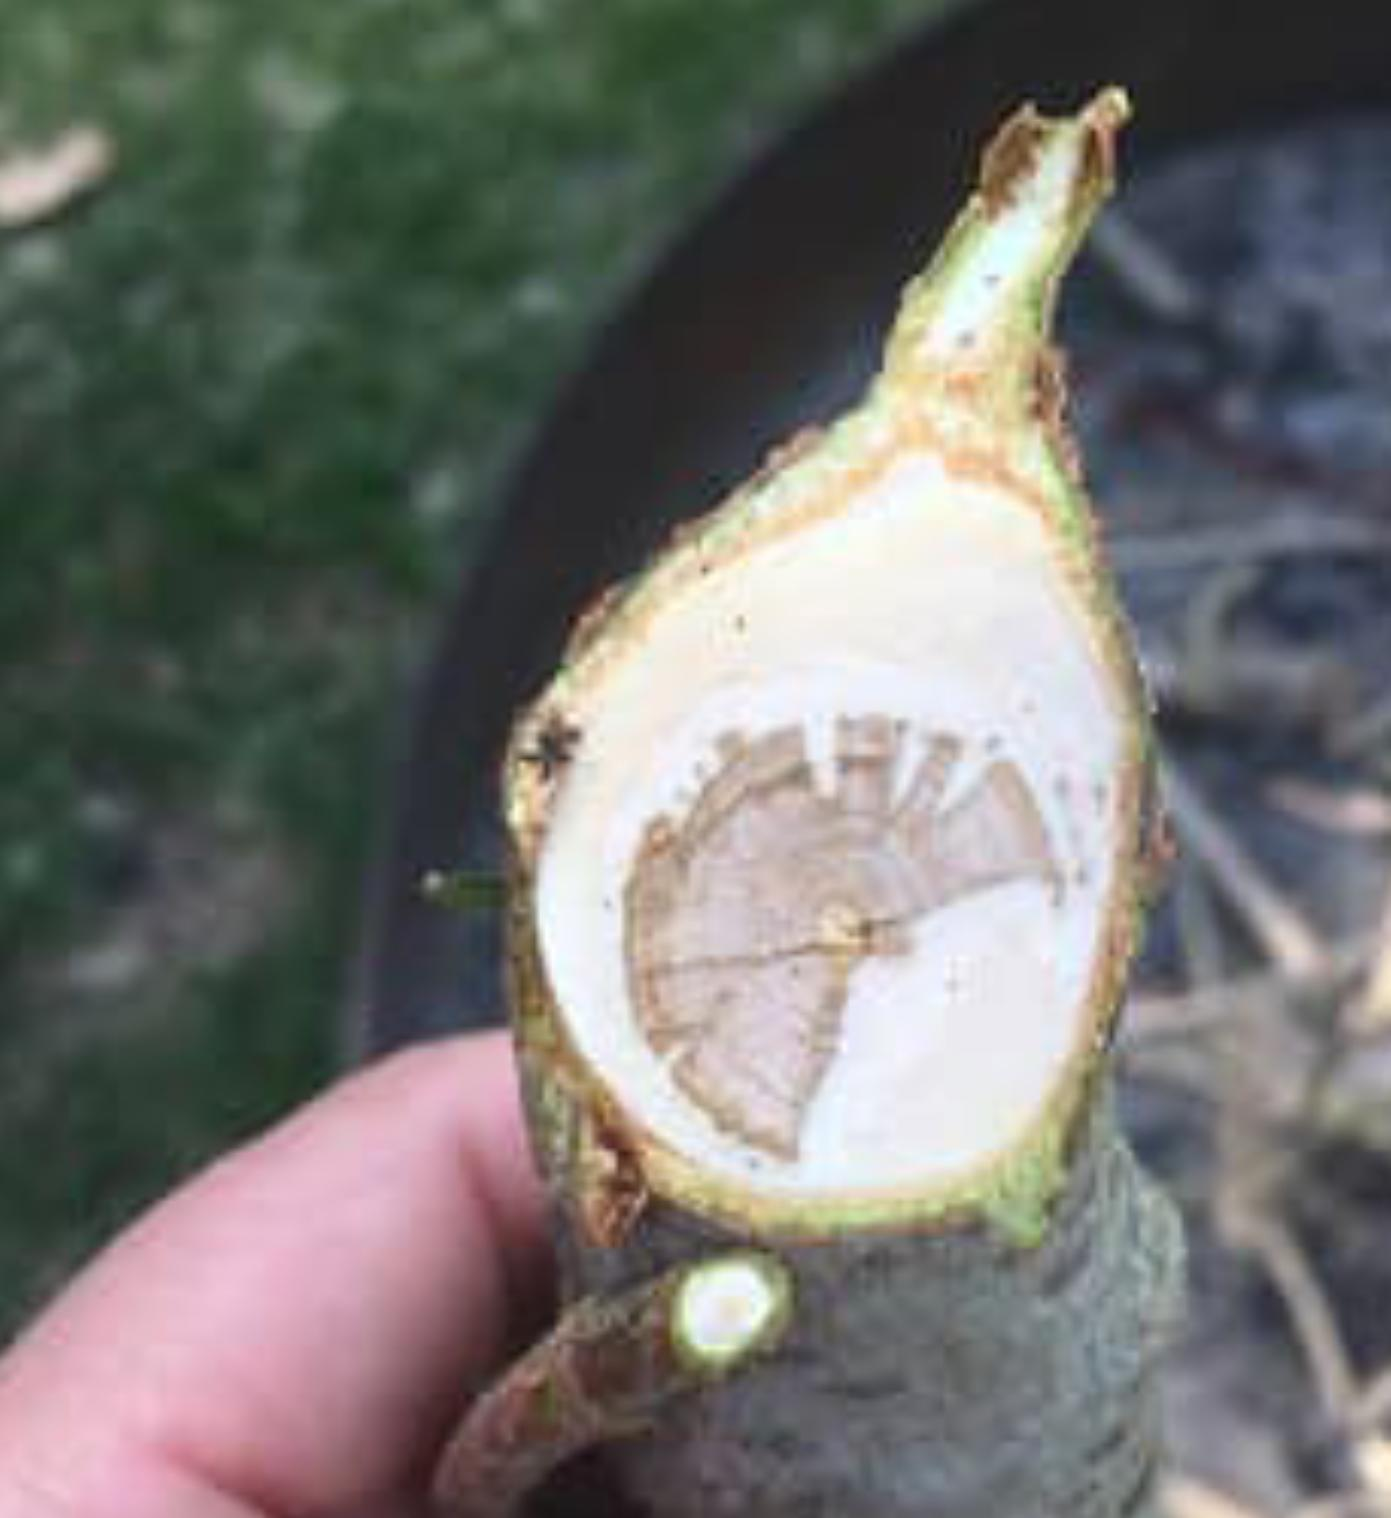Verticillium wilt: (624, 717, 1055, 1160)
